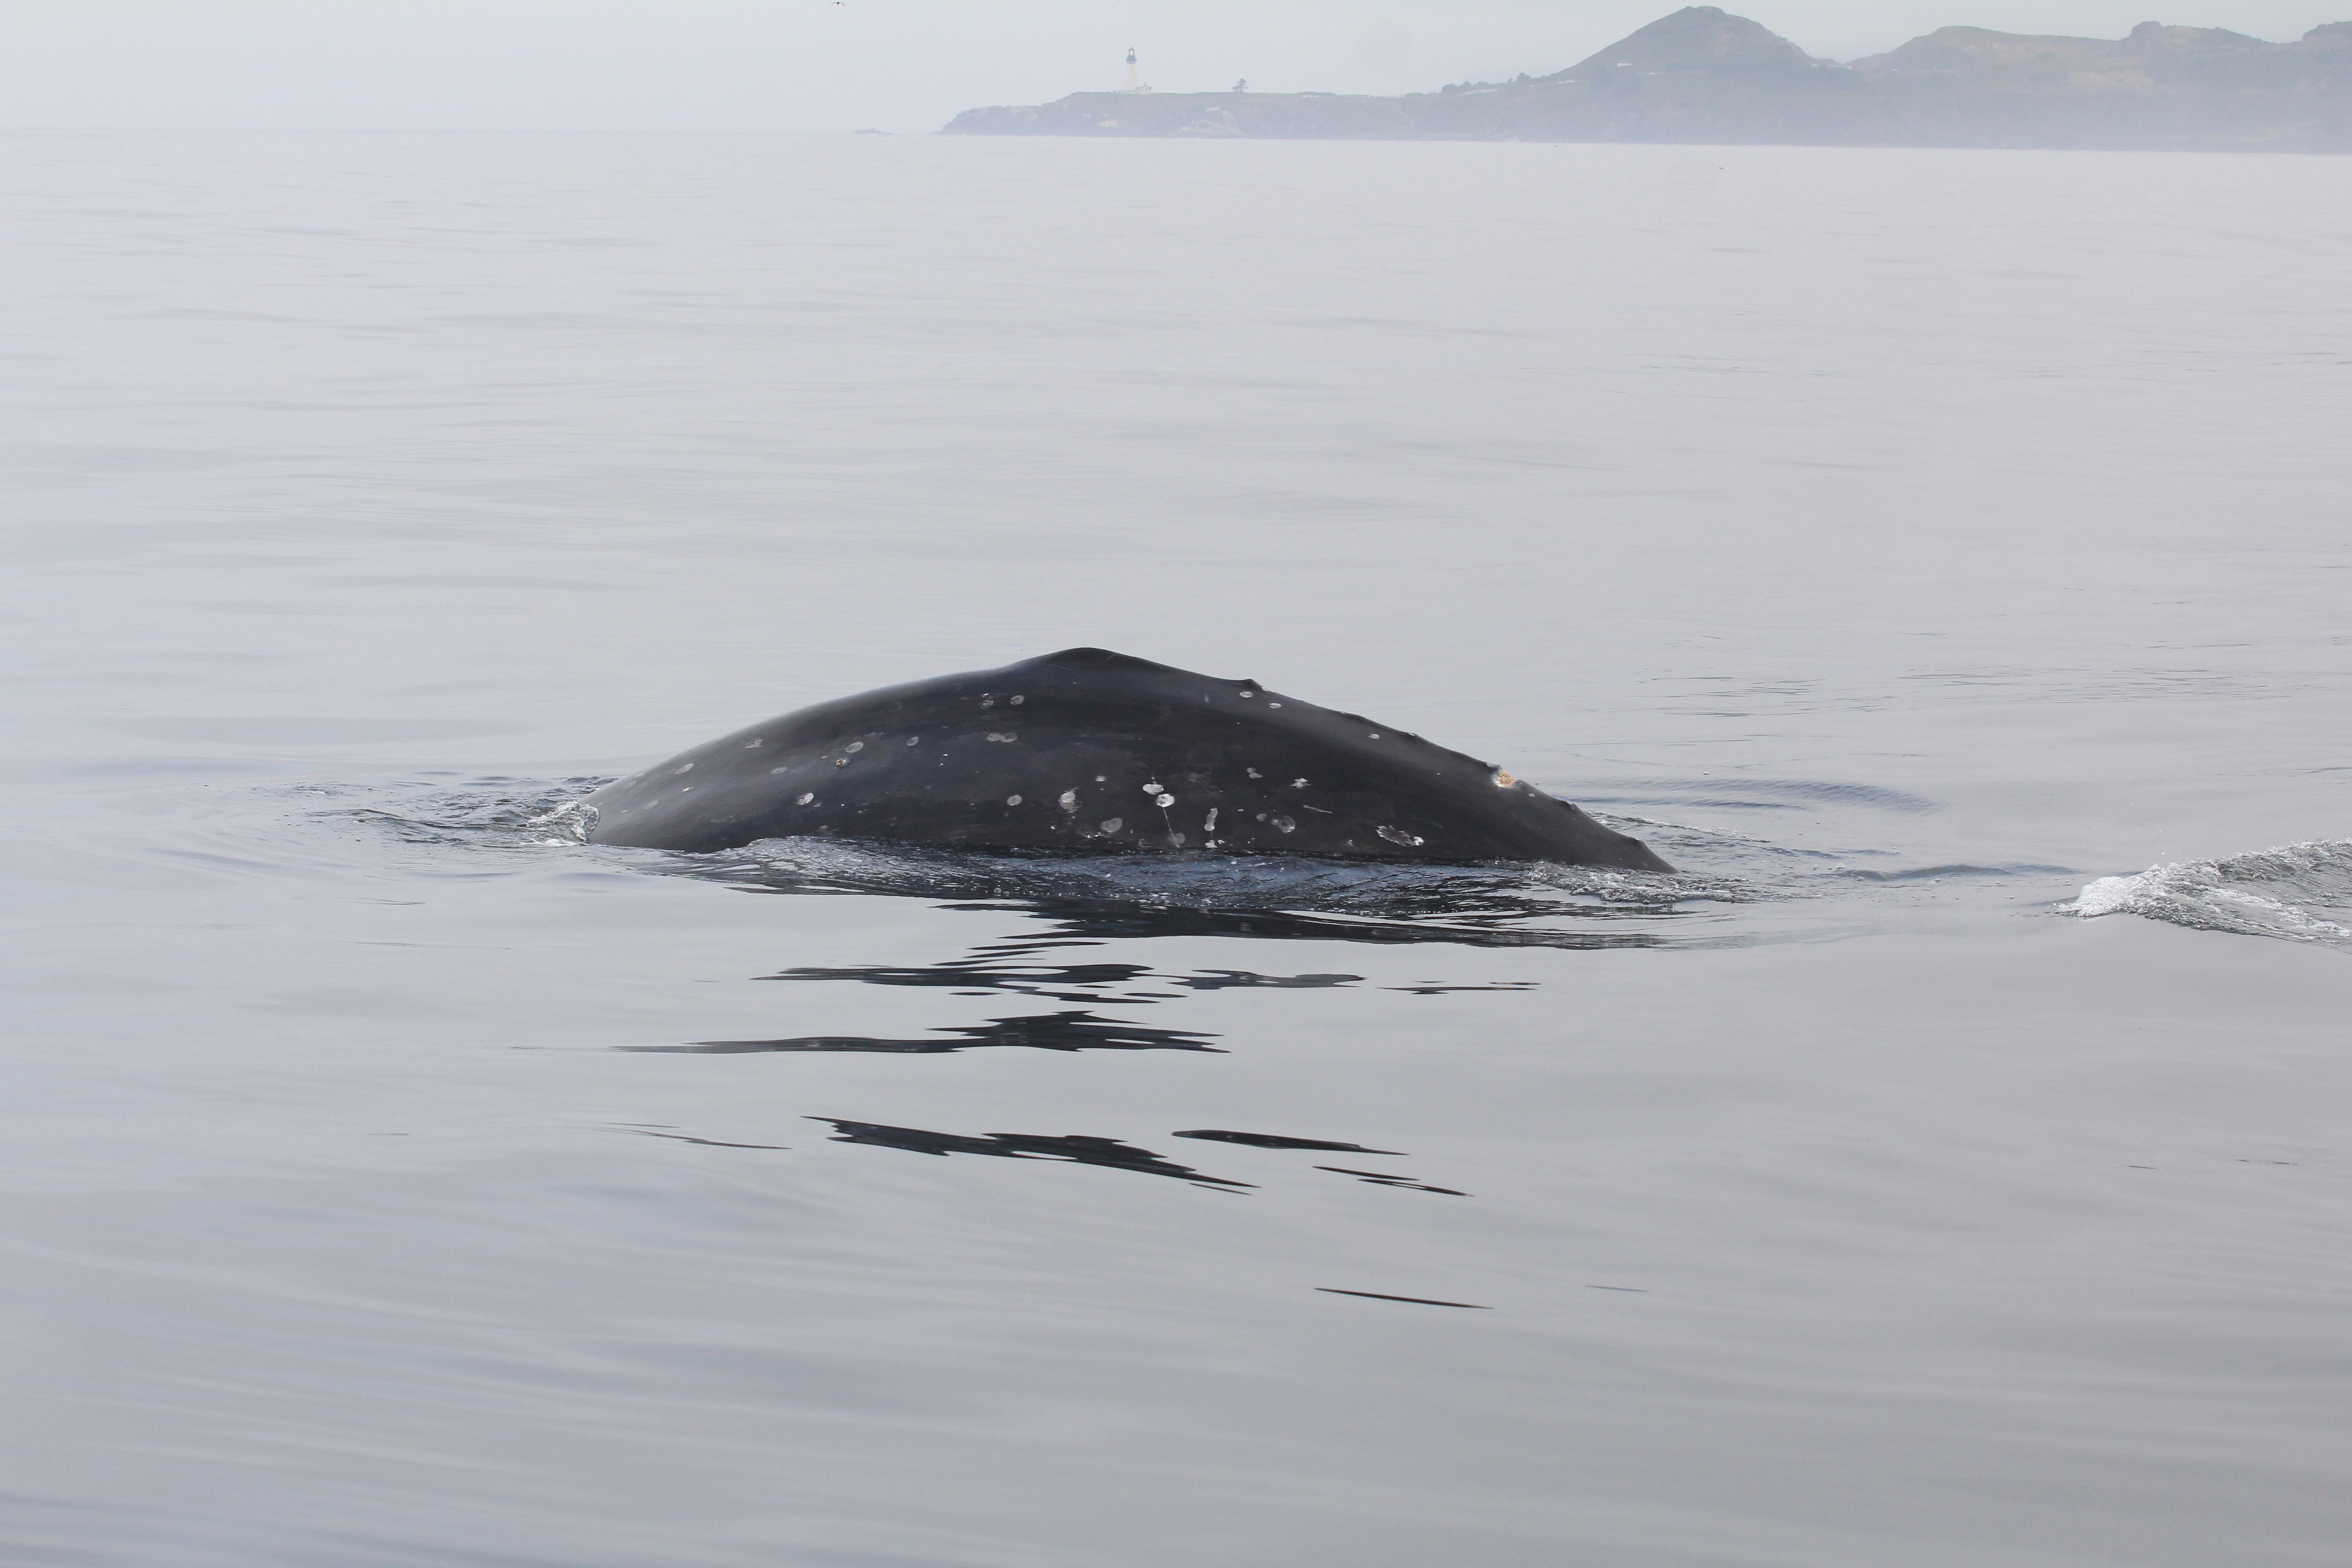fin: (892, 514, 1428, 908)
